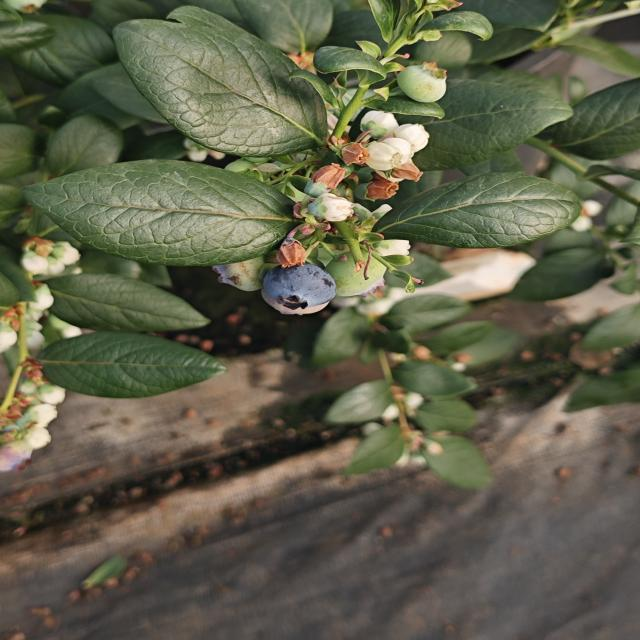ripe: (258, 261, 339, 317)
